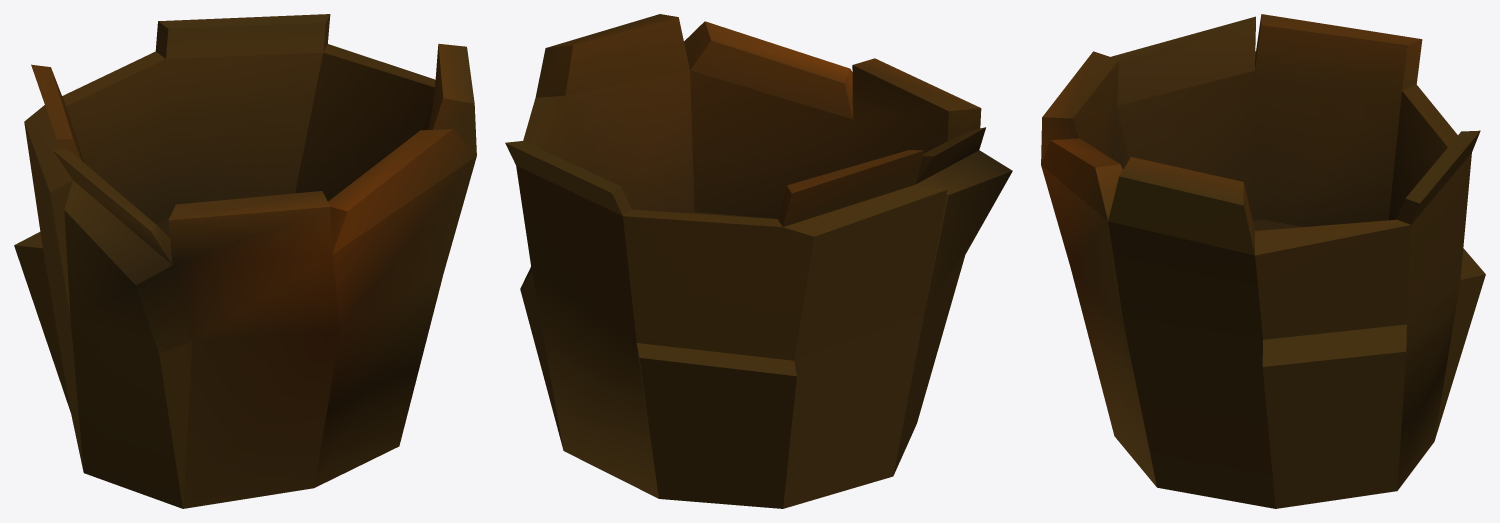
Rendered from Bucket_Wood.fbx.
The picture shows the model from 3 angles, left to right: view 1: azimuth 30°, elevation 25°; view 2: azimuth 150°, elevation 25°; view 3: azimuth 270°, elevation 25°; orthographic projection. The views are drawn at different scales.
Visible parts, largest first — view 1: Bucket_Wood; view 2: Bucket_Wood; view 3: Bucket_Wood.
Boxes of the visible parts, <box> form: Bucket_Wood: <box>14,14,476,508</box>; Bucket_Wood: <box>505,14,1012,508</box>; Bucket_Wood: <box>1041,14,1485,508</box>.
Size of the model in its own units: 64.32 by 51.7 by 59.65.
